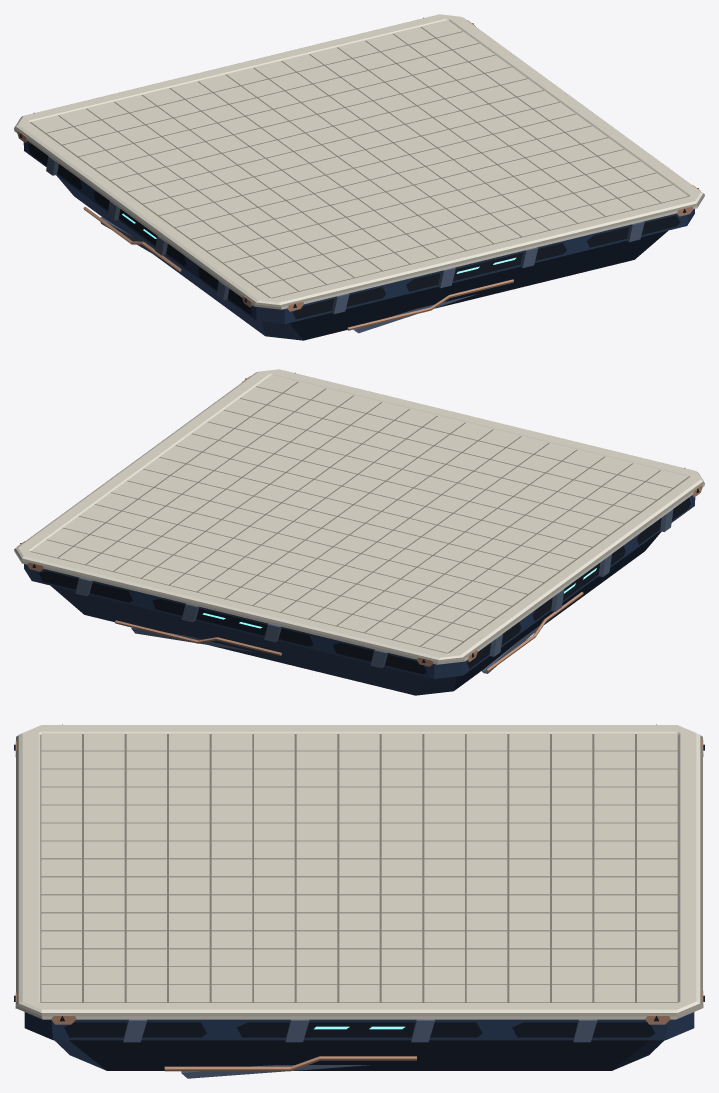
The model's file is overhaul-platform-deck.glb.
The picture shows the model from 3 angles, top to bottom: view 1: azimuth 30°, elevation 25°; view 2: azimuth 150°, elevation 25°; view 3: azimuth 270°, elevation 25°; orthographic projection. The views are drawn at different scales.
Parts seen in each view (by area): view 1: overhaul-platform-deck; view 2: overhaul-platform-deck; view 3: overhaul-platform-deck.
Boxes of the visible parts, box(x1,y1,x2,y2) form: overhaul-platform-deck: box(14, 14, 704, 340); overhaul-platform-deck: box(14, 369, 704, 695); overhaul-platform-deck: box(14, 724, 704, 1078).
Bounding box in the file's own units: 21.12 × 3.78 × 21.12.
